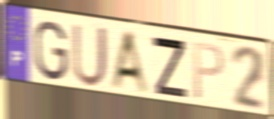2: (229, 44, 268, 113)
A: (108, 29, 153, 98)
G: (32, 19, 70, 83)
P: (192, 41, 226, 103)
U: (71, 22, 110, 90)
Z: (150, 34, 189, 101)
